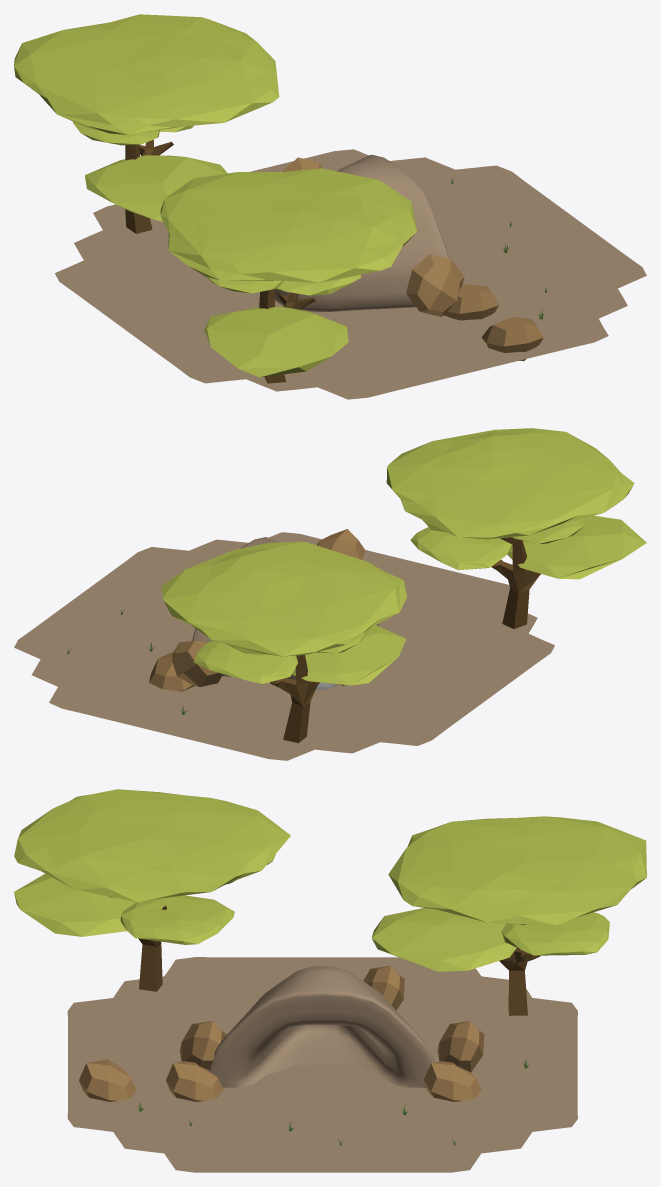
File: GrassLands.fbx
3 renders of one model, top to bottom at view 1: azimuth 30°, elevation 25°; view 2: azimuth 150°, elevation 25°; view 3: azimuth 270°, elevation 25°, orthographic. The views are drawn at different scales.
Visible parts, largest first — view 1: group4; view 2: group4; view 3: group4.
Boxes of the visible parts, <box> form: group4: <box>14,14,646,399</box>; group4: <box>14,428,646,760</box>; group4: <box>14,789,646,1172</box>.
Size of the model in its own units: 55.53 by 19.65 by 63.21.
